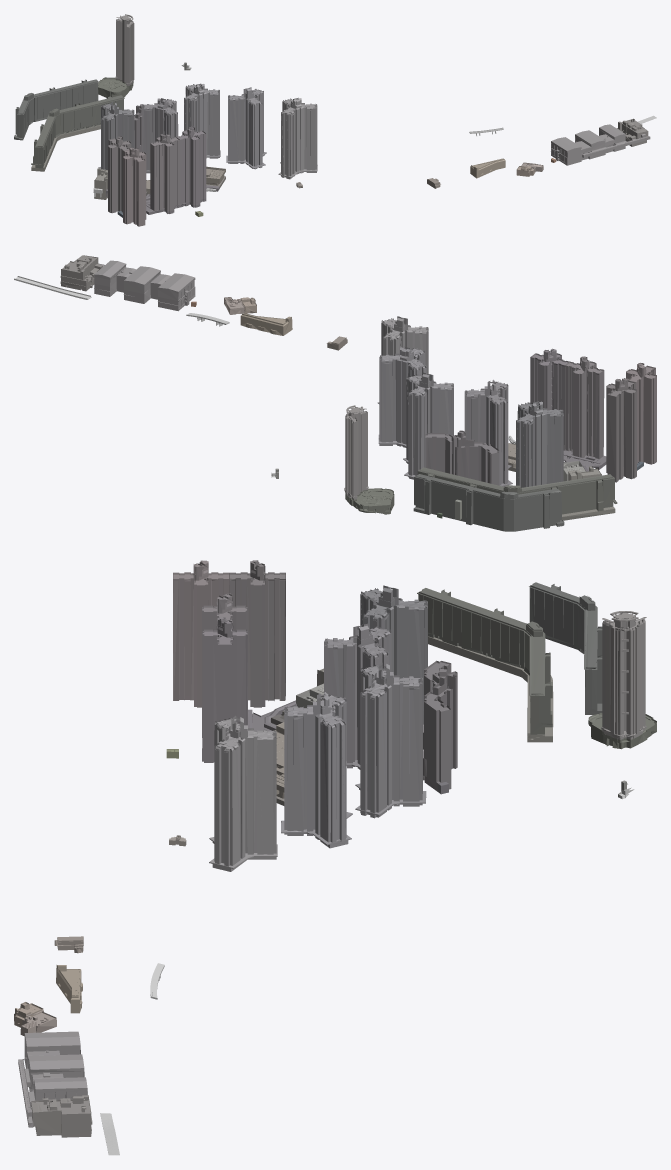
3 renders of one model, top to bottom at view 1: azimuth 30°, elevation 25°; view 2: azimuth 150°, elevation 25°; view 3: azimuth 270°, elevation 25°, orthographic. The views are drawn at different scales.
Visible parts, largest first — view 1: buildings; view 2: buildings, infrastructure; view 3: buildings, infrastructure.
Boxes of the visible parts, x1,y1,x2,y2 form: buildings: (14, 14, 650, 226); buildings: (60, 255, 656, 531); infrastructure: (14, 276, 515, 477); buildings: (14, 560, 656, 1137); infrastructure: (100, 787, 634, 1155).
Size of the model in its own units: 857 by 154 by 470.
